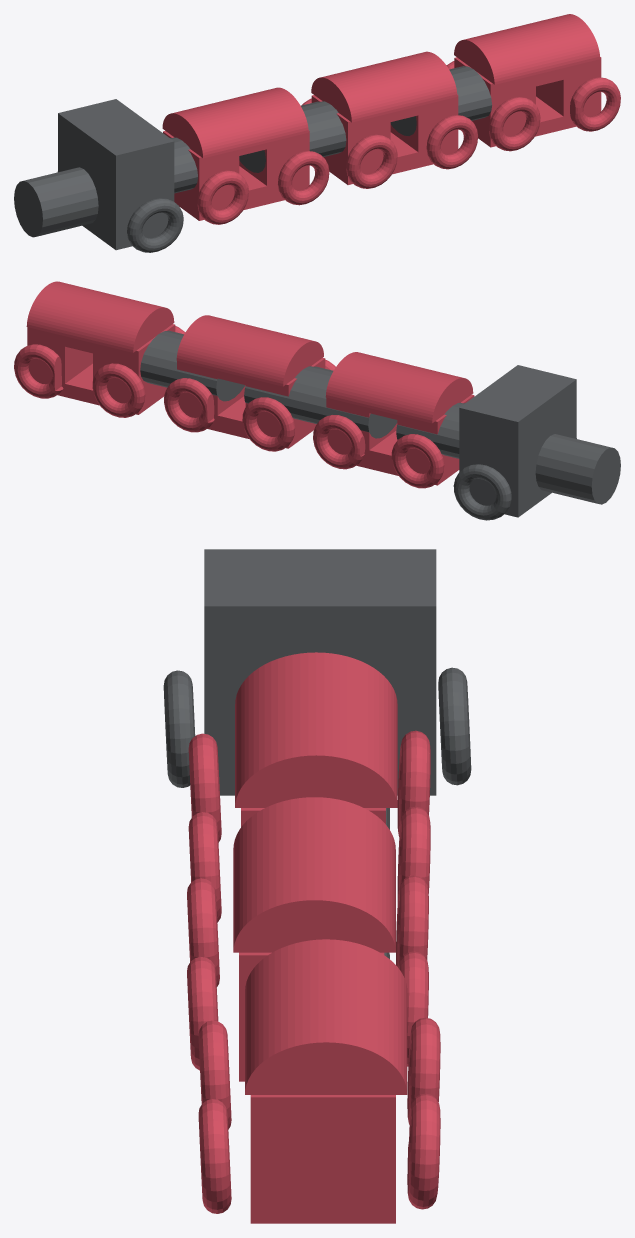
File: Grand Migelo-Snaget.glb
3 renders of one model, top to bottom at view 1: azimuth 30°, elevation 25°; view 2: azimuth 150°, elevation 25°; view 3: azimuth 270°, elevation 25°, orthographic. The views are drawn at different scales.
Parts seen in each view (by area): view 1: Mesh_Mesh_head_geo.001_lambert2SG.001; view 2: Mesh_Mesh_head_geo.001_lambert2SG.001; view 3: Mesh_Mesh_head_geo.001_lambert2SG.001.
Boxes of the visible parts, left/top/right/bottom form: Mesh_Mesh_head_geo.001_lambert2SG.001: left=14, top=14, right=620, bottom=252; Mesh_Mesh_head_geo.001_lambert2SG.001: left=14, top=281, right=620, bottom=520; Mesh_Mesh_head_geo.001_lambert2SG.001: left=163, top=549, right=471, bottom=1223.
Bounding box in the file's own units: 225 × 38 × 53.
